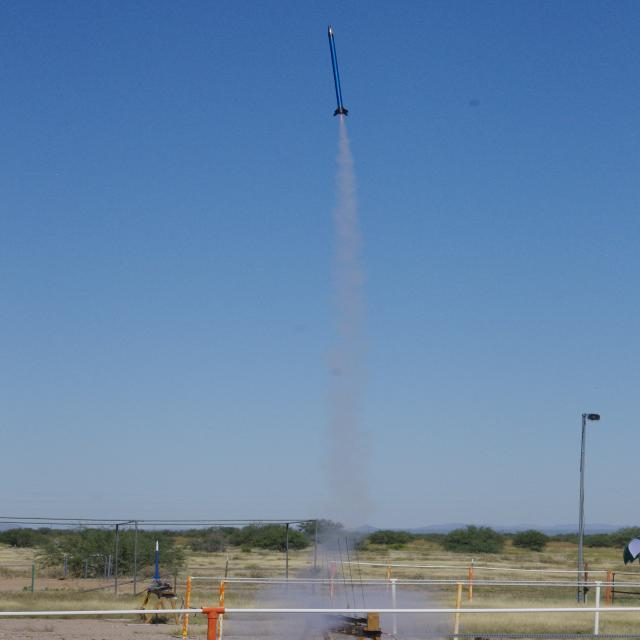Rocket: (327, 24, 349, 116), (153, 540, 161, 581)
